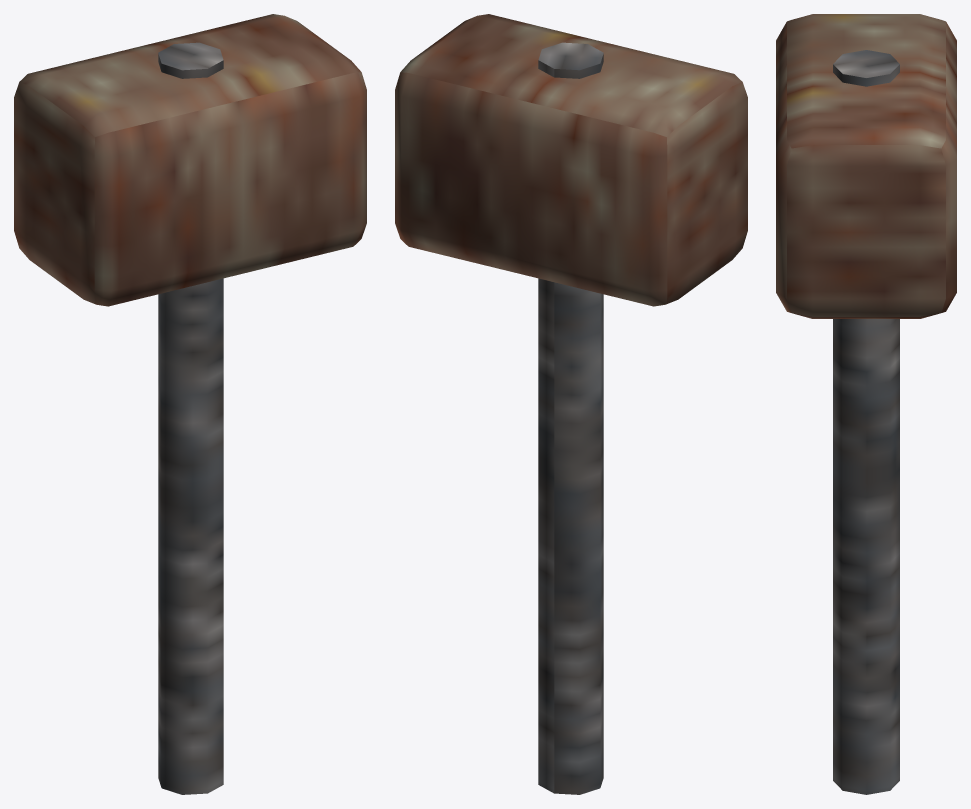
The model's file is hammer.fbx.
3 views of the same model, side by side, from view 1: azimuth 30°, elevation 25°; view 2: azimuth 150°, elevation 25°; view 3: azimuth 270°, elevation 25° (orthographic).
Visible parts, largest first — view 1: Cylinder.006; view 2: Cylinder.006; view 3: Cylinder.006.
Part boxes in pixels (box(x1,y1,x2,y2)): Cylinder.006: box(14, 14, 366, 794); Cylinder.006: box(395, 14, 747, 794); Cylinder.006: box(776, 14, 956, 794).
Size of the model in its own units: 18.14 by 45.85 by 10.48.
